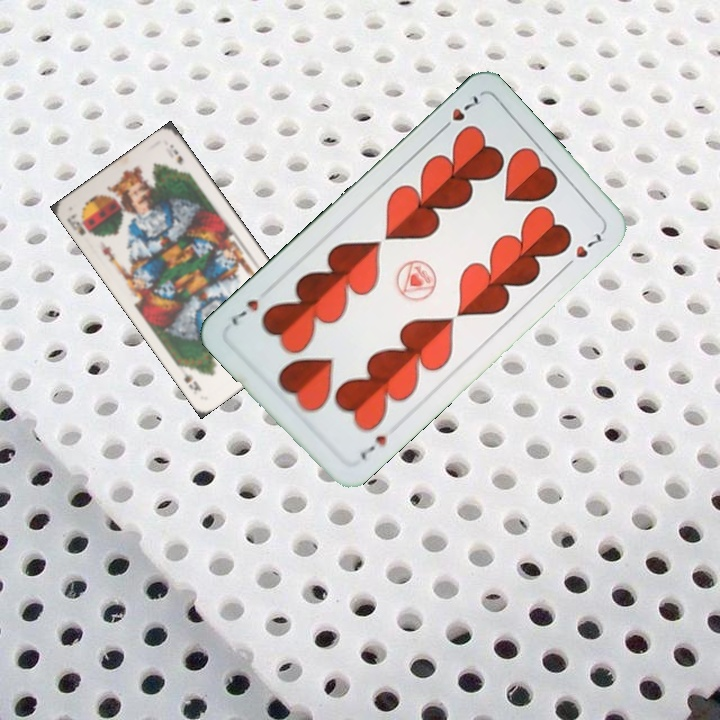H7: (435, 91, 484, 135), (355, 431, 389, 463)
SK: (63, 209, 88, 238)
